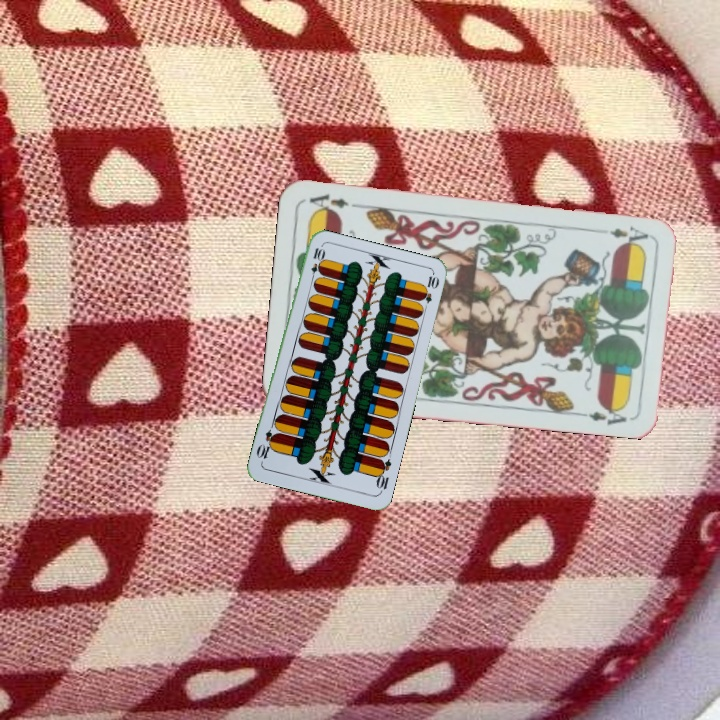E10: (372, 455, 394, 496), (307, 244, 325, 284)
EA: (592, 222, 651, 243)
